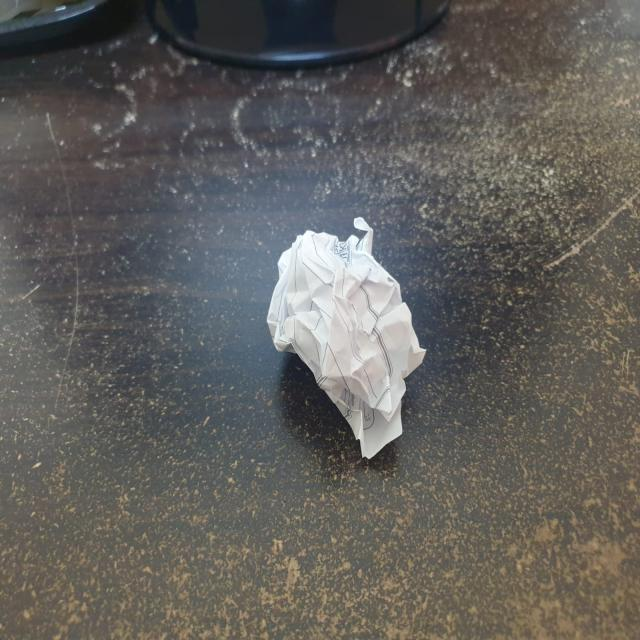Paper: (267, 215, 426, 459)
